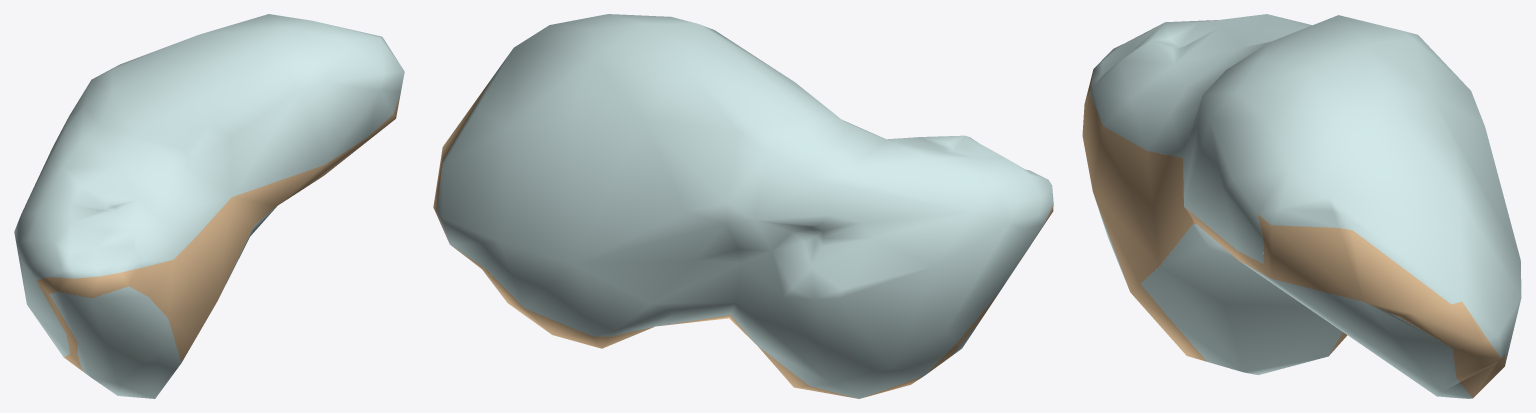
Rendered from Scaphoid_bone.r_Generated_Mesh_From_X3D.704.glb.
3 views of the same model, side by side, from view 1: azimuth 30°, elevation 25°; view 2: azimuth 150°, elevation 25°; view 3: azimuth 270°, elevation 25° (orthographic). The views are drawn at different scales.
Visible parts, largest first — view 1: Scaphoid_bone.r_Generated_Mesh_From_X3D.704; view 2: Scaphoid_bone.r_Generated_Mesh_From_X3D.704; view 3: Scaphoid_bone.r_Generated_Mesh_From_X3D.704.
Boxes of the visible parts, x1,y1,x2,y2 form: Scaphoid_bone.r_Generated_Mesh_From_X3D.704: (14, 14, 404, 398); Scaphoid_bone.r_Generated_Mesh_From_X3D.704: (433, 14, 1053, 398); Scaphoid_bone.r_Generated_Mesh_From_X3D.704: (1082, 14, 1521, 398).
Bounding box in the file's own units: 0.0246 × 0.0162 × 0.0159.
